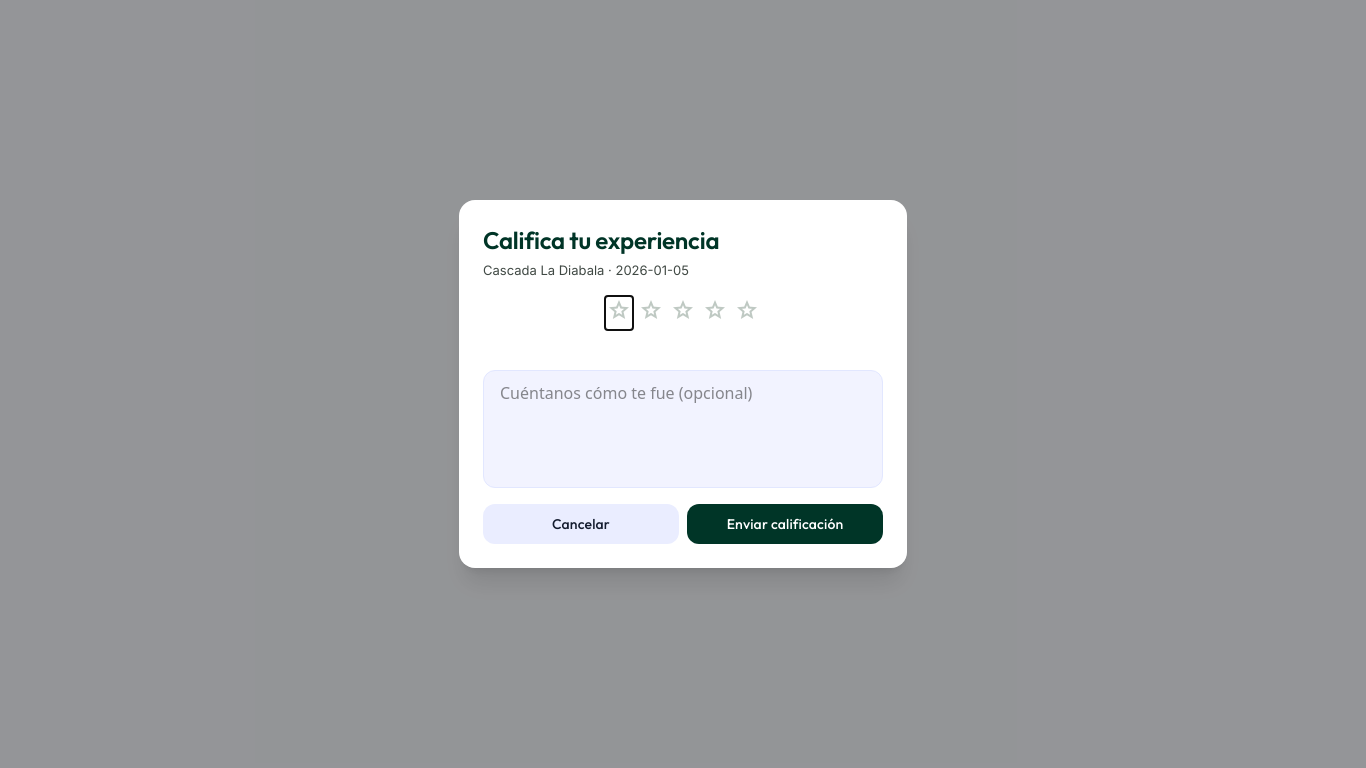
Test: ModalCalificar › muestra el error del servidor sin cerrar el modal
Click the radio button named "3 estrellas" at (683, 313), box [669,296,697,330]
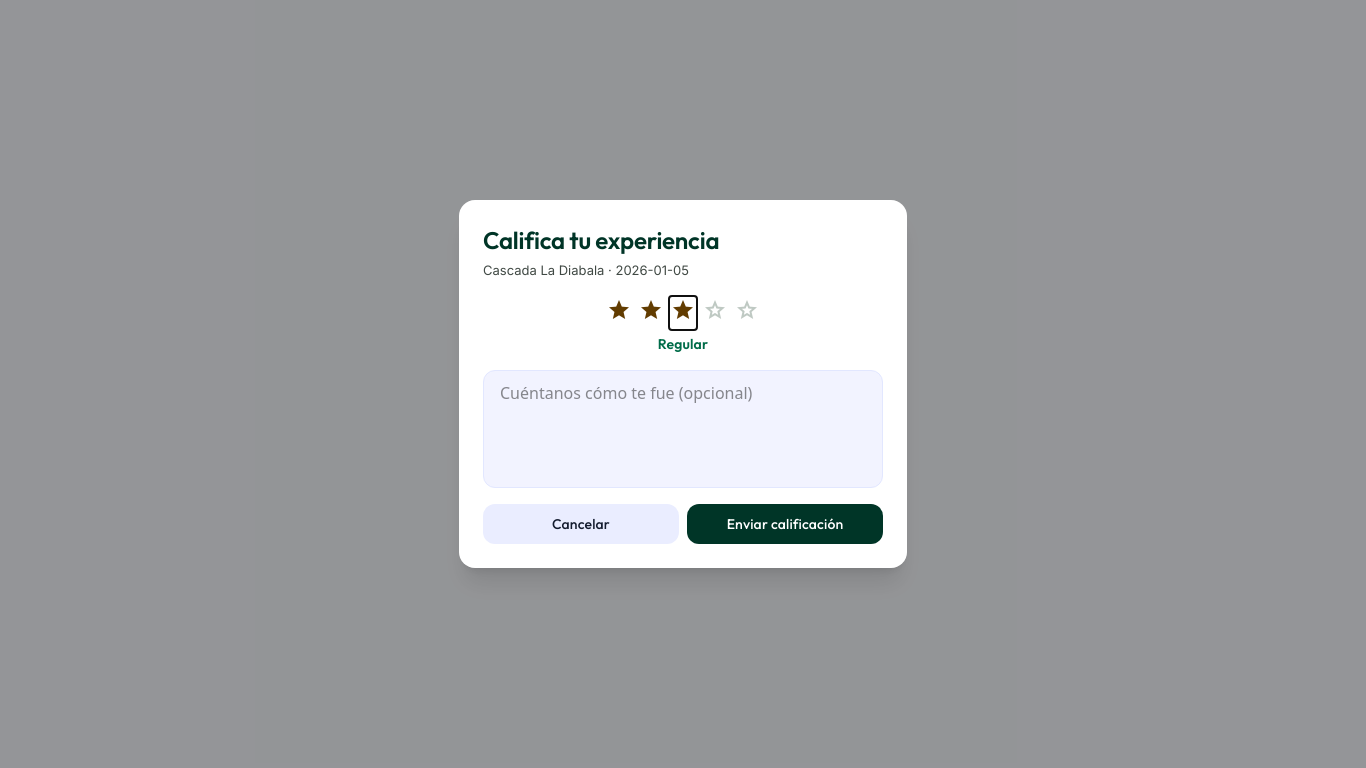
Click the button "Enviar calificación" at (785, 524), box [687,504,883,544]
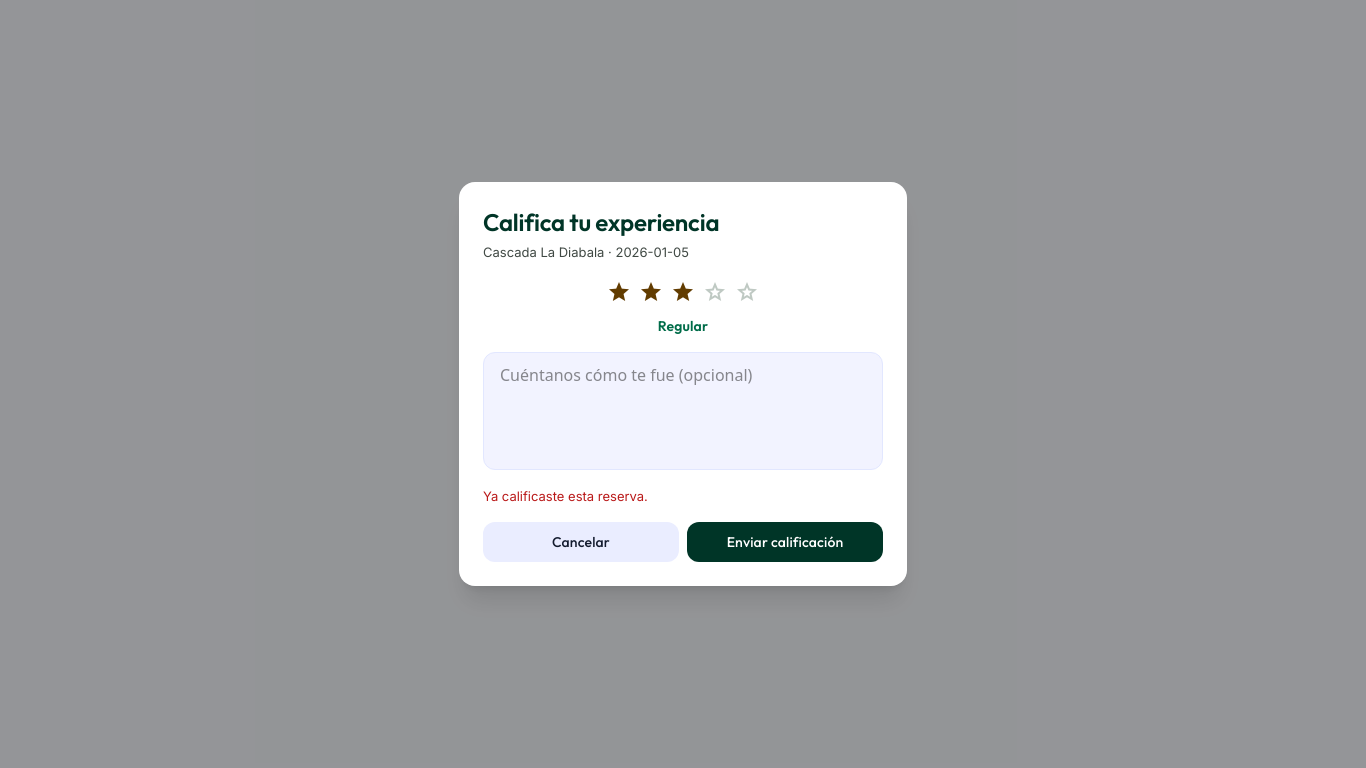
Result: the text "Ya calificaste esta reserva." is shown at [483,488,648,504]
